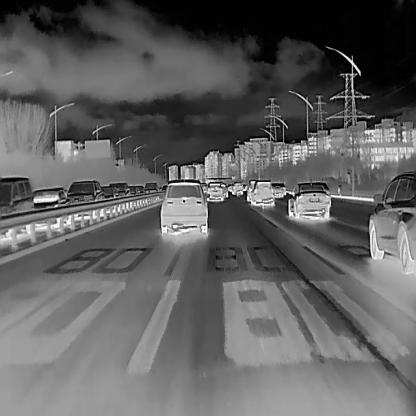car: (368, 169, 415, 273), (159, 178, 208, 235), (286, 181, 330, 219), (0, 174, 32, 224), (65, 178, 103, 210), (33, 186, 67, 214), (251, 181, 275, 207), (109, 180, 130, 200), (205, 181, 223, 202), (98, 184, 115, 202), (269, 182, 283, 198), (230, 180, 244, 195), (144, 181, 158, 195), (128, 185, 139, 197)
